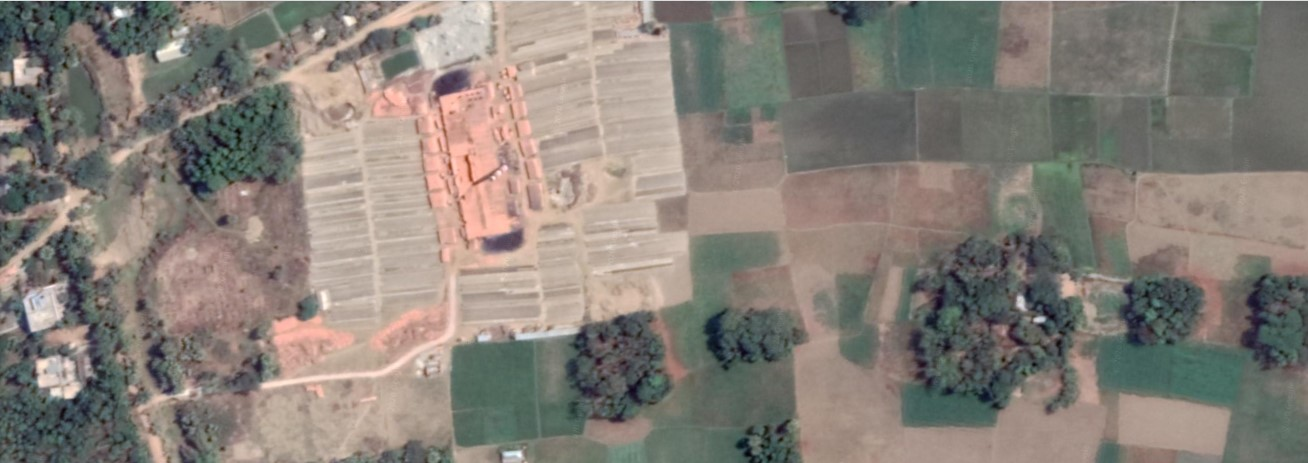kiln: (427, 104, 538, 224)
